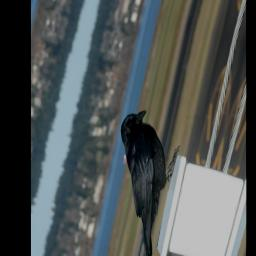Crow: (93, 103, 186, 256)
